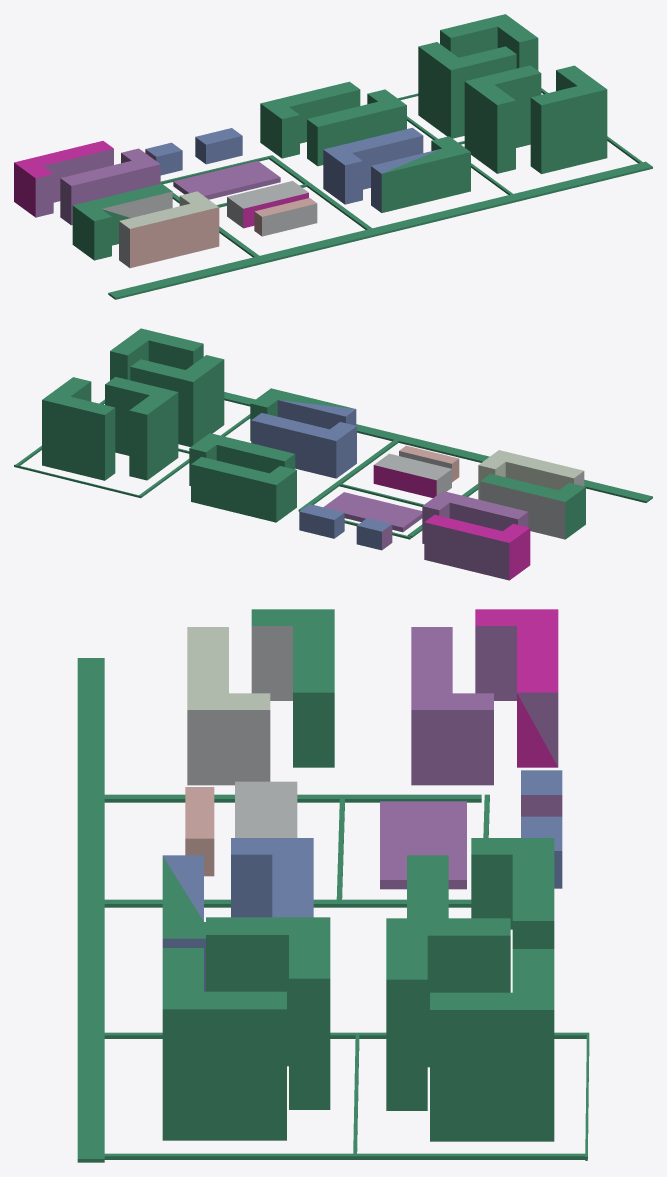
Rendered from แบบแผนผัง3D.glb.
3 renders of one model, top to bottom at view 1: azimuth 30°, elevation 25°; view 2: azimuth 150°, elevation 25°; view 3: azimuth 270°, elevation 25°, orthographic. The views are drawn at different scales.
Parts seen in each view (by area): view 1: Mesh_Mesh_head_geo.001_lambert2SG.001; view 2: Mesh_Mesh_head_geo.001_lambert2SG.001; view 3: Mesh_Mesh_head_geo.001_lambert2SG.001.
Part boxes in pixels (x1,y1,x2,y2): Mesh_Mesh_head_geo.001_lambert2SG.001: (14, 14, 652, 299); Mesh_Mesh_head_geo.001_lambert2SG.001: (14, 328, 652, 580); Mesh_Mesh_head_geo.001_lambert2SG.001: (77, 609, 589, 1162).
Bounding box in the file's own units: 572 × 70 × 247.
